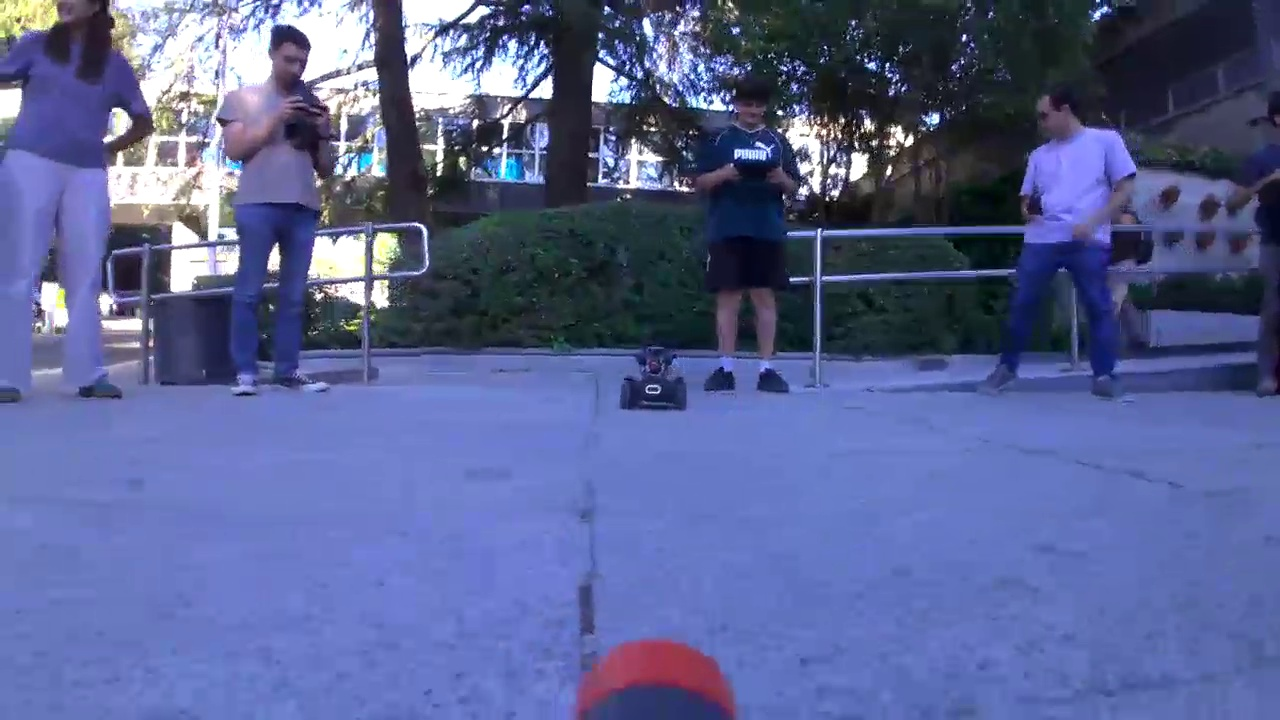robot: (616, 337, 683, 409)
